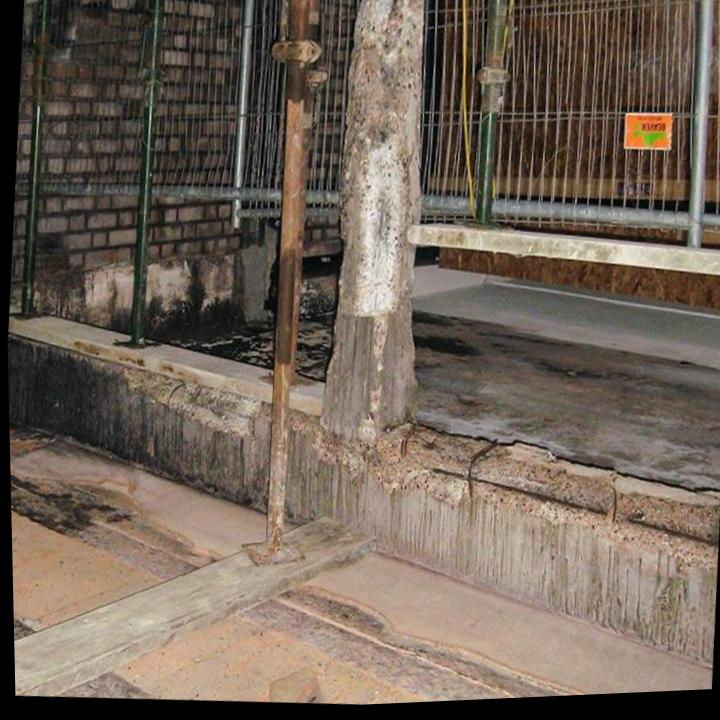damage: (114, 0, 718, 591)
